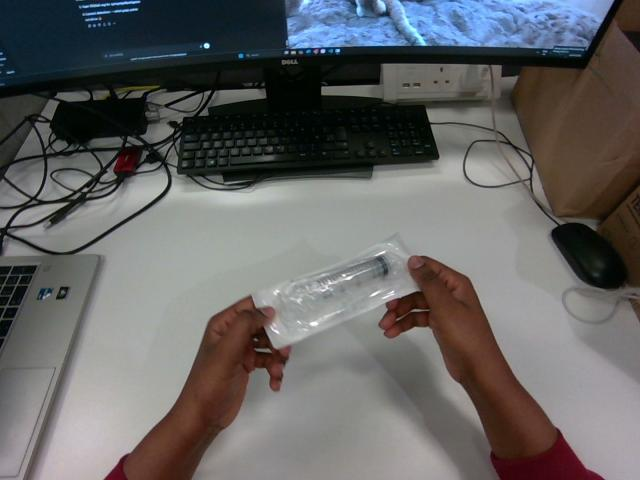syringe: (252, 234, 417, 347)
